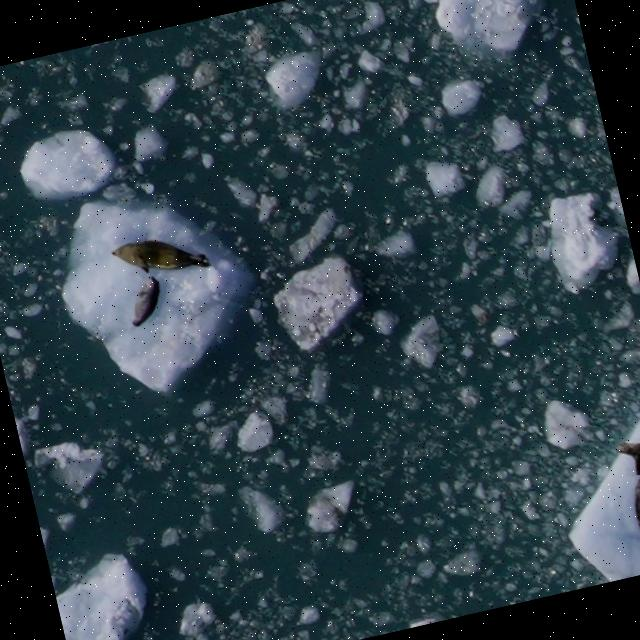seal: (105, 222, 217, 292), (118, 271, 172, 331), (614, 437, 640, 547), (624, 474, 640, 555)
